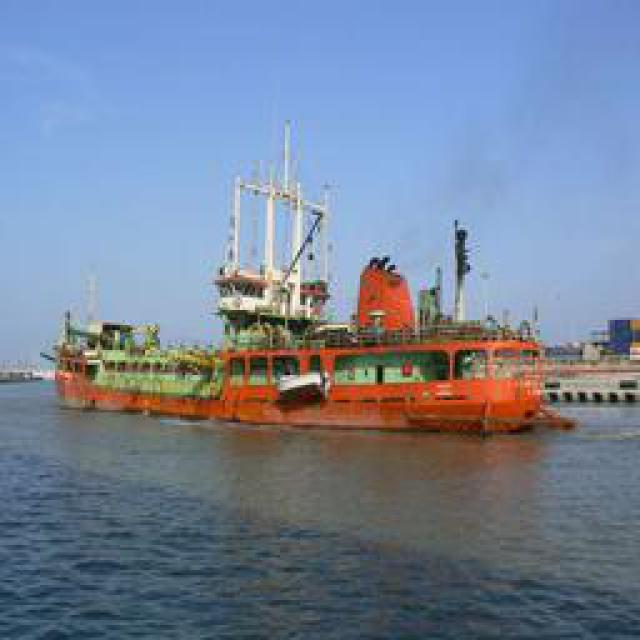Ship: (59, 106, 584, 429)
